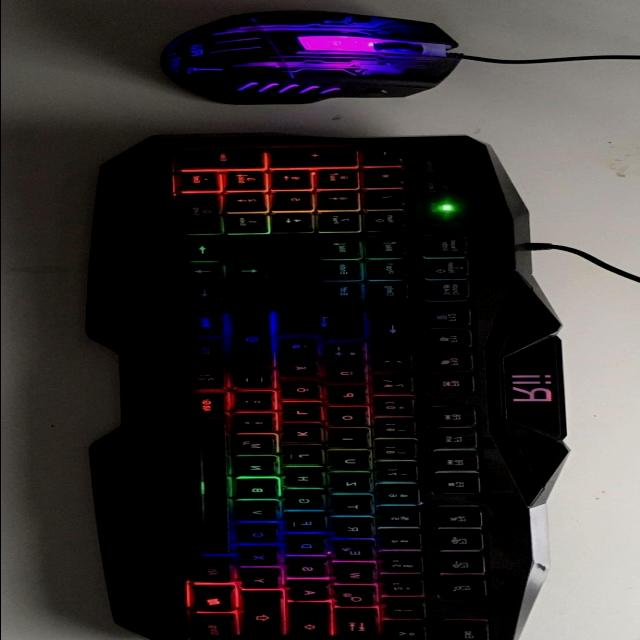0: (379, 398, 421, 418)
1: (387, 600, 431, 622)
2: (386, 578, 430, 598)
3: (385, 558, 429, 576)
4: (385, 533, 427, 551)
5: (382, 509, 426, 529)
6: (381, 486, 425, 506)
7: (380, 464, 424, 484)
8: (379, 442, 423, 462)
9: (378, 420, 422, 440)
a: (291, 582, 335, 603)
accent: (376, 354, 418, 374)
ae: (282, 360, 326, 380)
alt-left: (194, 559, 238, 585)
altgr-right: (188, 394, 234, 420)
b: (238, 480, 284, 501)
c: (239, 525, 283, 545)
caret: (387, 626, 431, 640)
comma: (237, 414, 281, 434)
d: (289, 537, 333, 557)
del: (373, 310, 417, 352)
e: (337, 543, 381, 563)
enter: (279, 311, 369, 341)
f: (289, 514, 331, 534)
g: (288, 492, 330, 512)
h: (287, 470, 331, 490)
hash: (282, 339, 322, 359)
i: (333, 430, 375, 450)
j: (287, 448, 329, 466)
k: (286, 426, 328, 445)
keyboard: (138, 131, 519, 640)
l: (286, 405, 328, 424)
m: (236, 435, 282, 456)
minus: (236, 371, 280, 391)
n: (237, 457, 283, 477)
o: (332, 408, 374, 428)
oe: (285, 383, 325, 401)
p: (330, 387, 374, 407)
plus: (326, 344, 372, 364)
point: (240, 393, 280, 413)
q: (338, 586, 382, 609)
r: (336, 519, 378, 540)
s: (289, 560, 333, 580)
shift-left: (242, 594, 288, 638)
shift-lock: (291, 604, 335, 640)
shift-right: (235, 311, 277, 369)
space: (174, 421, 234, 557)
ss: (377, 377, 419, 395)
strg-left: (194, 615, 238, 640)
strg-right: (183, 312, 229, 338)
t: (336, 497, 378, 517)
tab: (338, 610, 382, 640)
u: (332, 452, 376, 472)
ue: (330, 366, 372, 386)
v: (239, 502, 285, 522)
w: (337, 565, 381, 586)
x: (242, 548, 284, 568)
y: (244, 571, 286, 591)
z: (334, 475, 376, 495)
